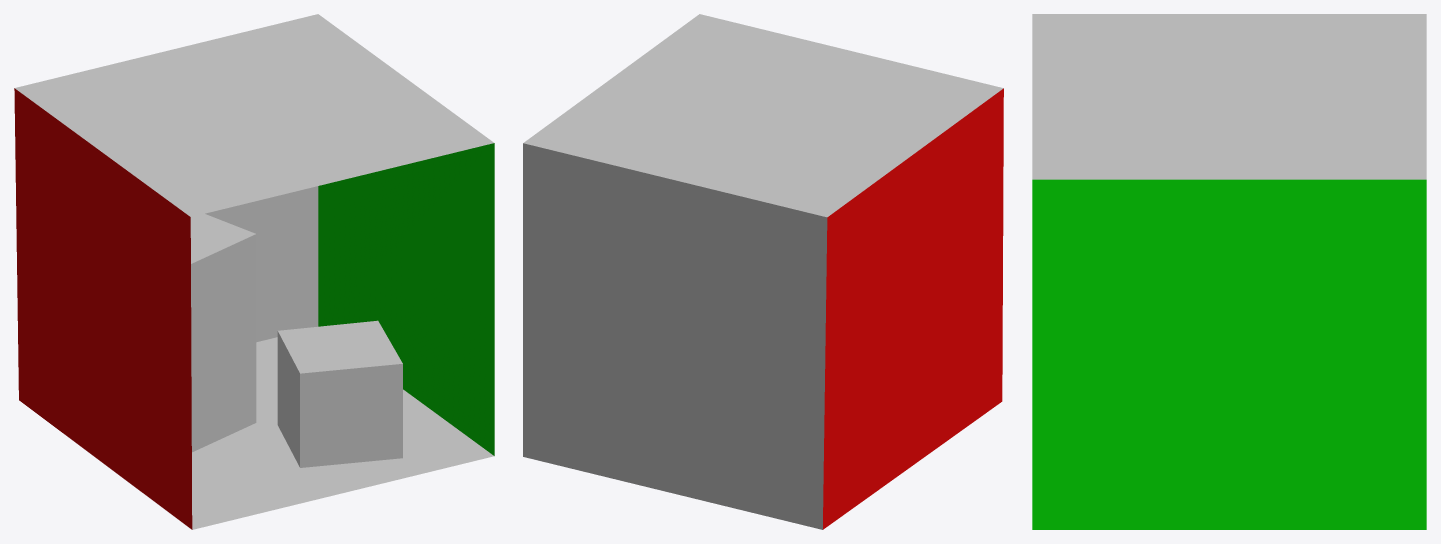
The model's file is cornell_box.obj.
3 views of the same model, side by side, from view 1: azimuth 30°, elevation 25°; view 2: azimuth 150°, elevation 25°; view 3: azimuth 270°, elevation 25° (orthographic). The views are drawn at different scales.
Visible parts, largest first — view 1: CornellBox, LeftWall, RightWall; view 2: CornellBox, LeftWall; view 3: RightWall, CornellBox.
Boxes of the visible parts, box(x1,y1,x2,y2) form: CornellBox: box(15, 14, 493, 529); LeftWall: box(14, 88, 192, 529); RightWall: box(318, 143, 494, 455); CornellBox: box(523, 14, 1003, 529); LeftWall: box(823, 88, 1003, 529); RightWall: box(1032, 179, 1426, 529); CornellBox: box(1032, 14, 1426, 179).
Bounding box in the file's own units: 2.02 × 1.99 × 2.03.
